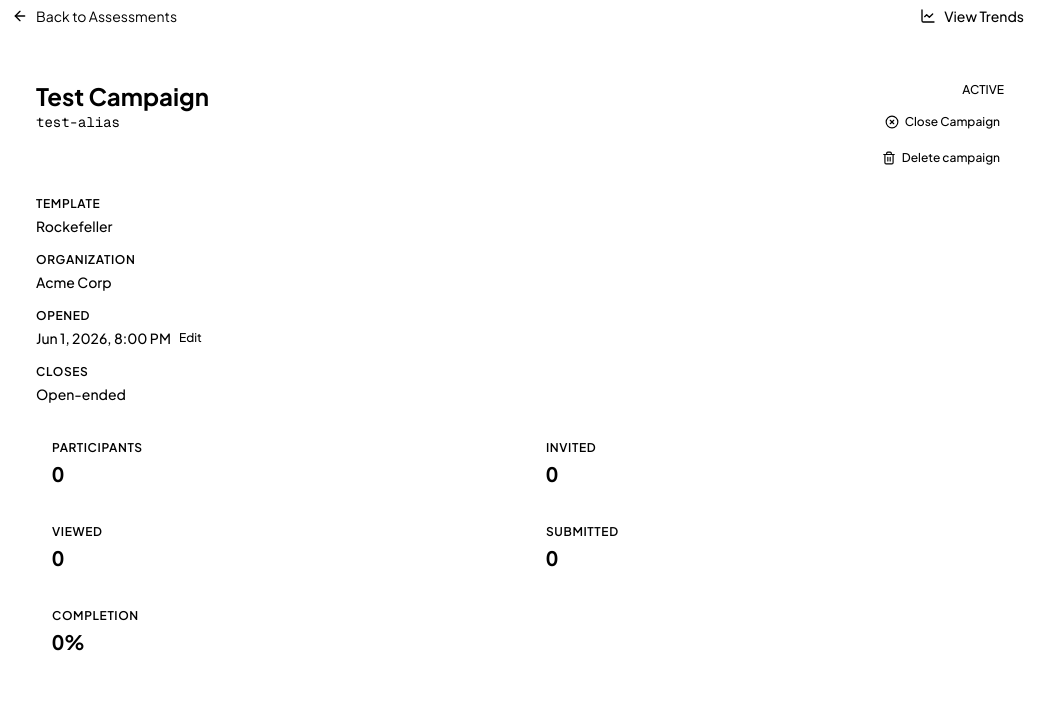
CampaignDetail — openAt editor TZ round-trip (#1) › initialises the openAt editor input with LOCAL datetime-local value, not UTC slice
# Click the Edit openAt button to open the inline editor
Step 1. Click the button with test id "edit-openAt" → (190, 338), box x1=179 y1=330 x2=202 y2=346
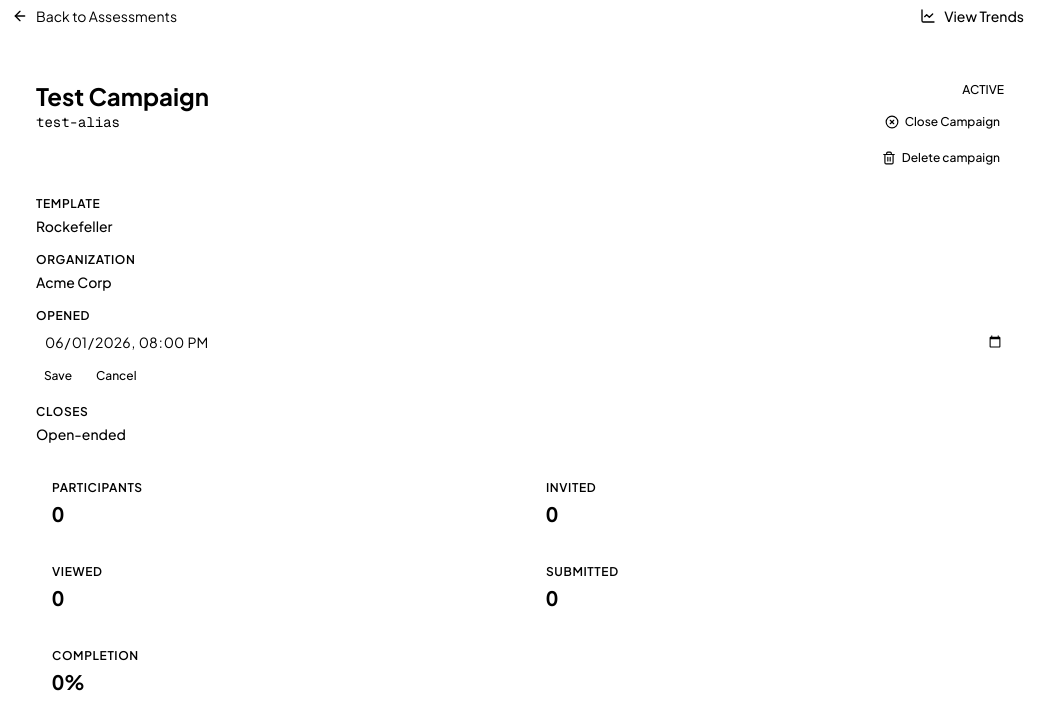
Result: the field showing "2026-06-01T20:00" holds "2026-06-01T20:00" at x1=36 y1=328 x2=1012 y2=356
Result: the field showing "2026-06-01T20:00" is not empty at x1=36 y1=328 x2=1012 y2=356
